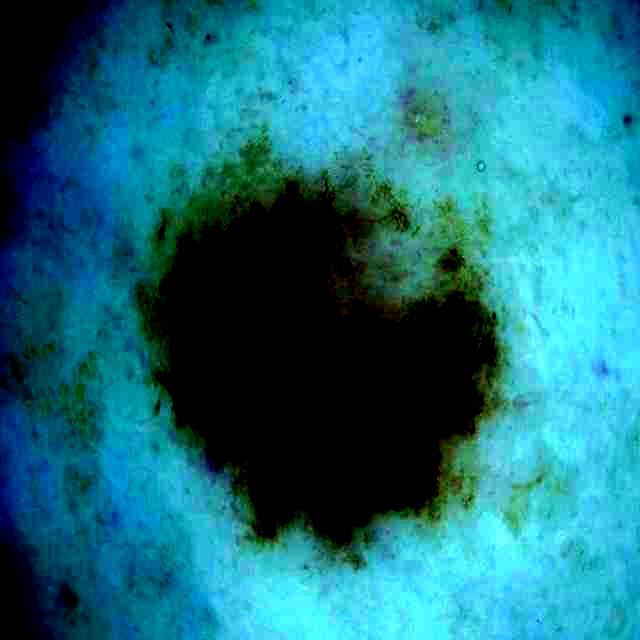MEL: (145, 176, 498, 535)
